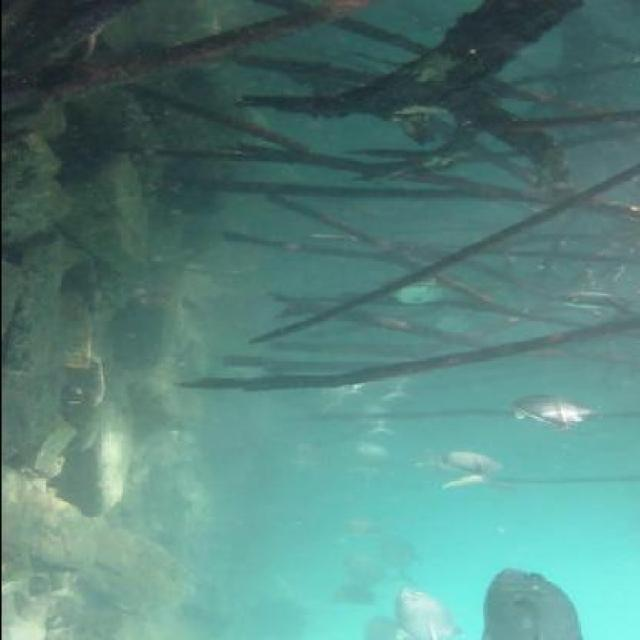Caranx_sexfasciatus_juvenile: (474, 563, 586, 640), (505, 392, 606, 442), (417, 447, 520, 495), (374, 266, 469, 312), (391, 584, 462, 640), (543, 279, 635, 321), (312, 355, 372, 403), (369, 534, 428, 581), (364, 364, 424, 408), (336, 438, 398, 478), (329, 558, 386, 596), (345, 400, 407, 434), (327, 508, 381, 544), (358, 611, 411, 640)
